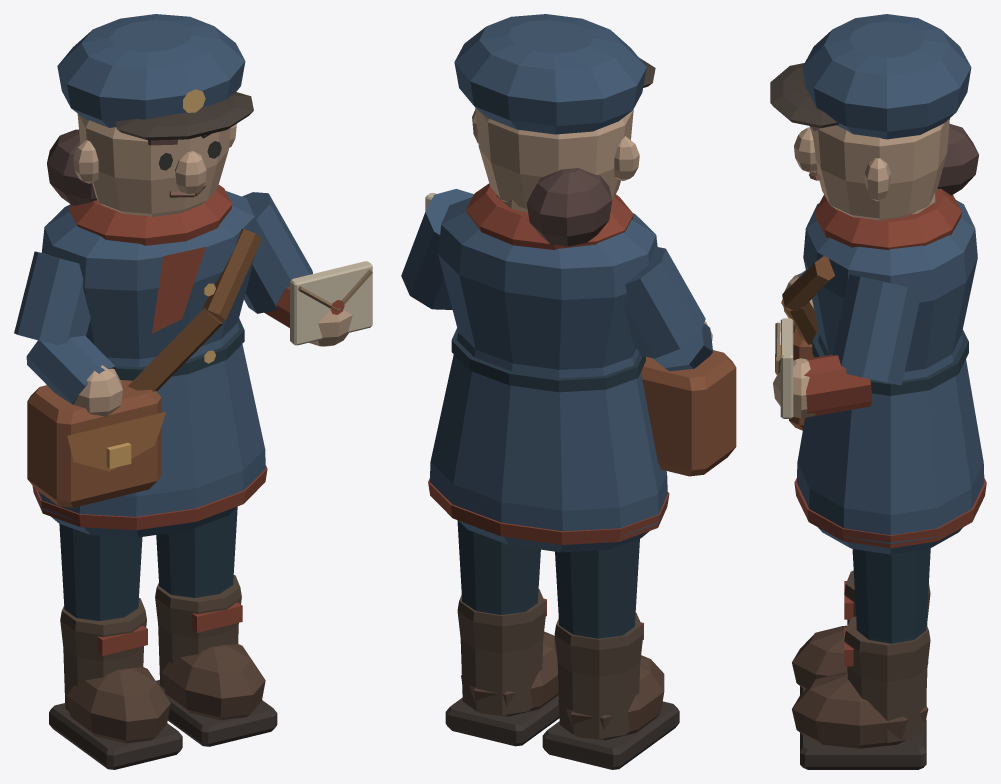
File: letter_carrier.glb
3 renders of one model, left to right at view 1: azimuth 30°, elevation 25°; view 2: azimuth 150°, elevation 25°; view 3: azimuth 270°, elevation 25°, orthographic. The views are drawn at different scales.
Visible parts, largest first — view 1: Coat and head, Hip.L, Hip.R, Shoulder.R; view 2: Coat and head, Hip.L, Hip.R, Shoulder.R; view 3: Coat and head, Hip.R, Shoulder.R, Hip.L.
Boxes of the visible parts, x1,y1,x2,y2 form: Coat and head: (14, 14, 267, 537); Hip.L: (49, 524, 182, 769); Hip.R: (155, 507, 277, 746); Shoulder.R: (242, 192, 372, 346); Coat and head: (428, 14, 736, 552); Hip.L: (542, 539, 679, 769); Hip.R: (445, 520, 559, 746); Shoulder.R: (401, 189, 473, 309); Coat and head: (770, 14, 986, 554); Hip.R: (792, 548, 930, 769); Shoulder.R: (773, 274, 921, 418); Hip.L: (792, 570, 930, 717).
Size of the model in its own units: 0.6869 by 1.45 by 0.412.
